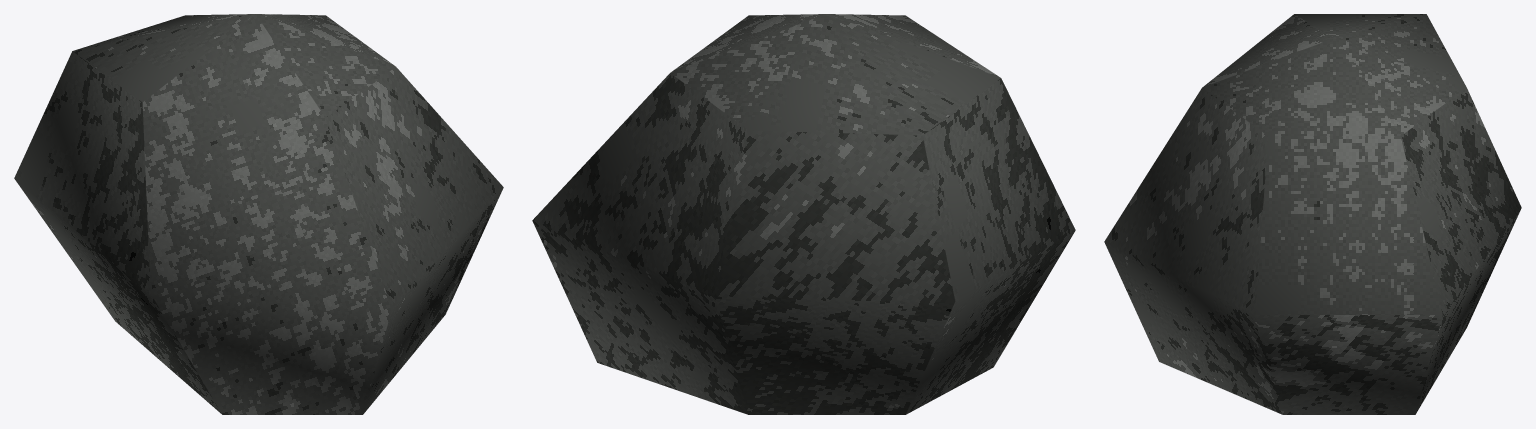
The model's file is rock1.glb.
The picture shows the model from 3 angles, left to right: view 1: azimuth 30°, elevation 25°; view 2: azimuth 150°, elevation 25°; view 3: azimuth 270°, elevation 25°; orthographic projection. The views are drawn at different scales.
Visible parts, largest first — view 1: rock; view 2: rock; view 3: rock.
Boxes of the visible parts, box(x1,y1,x2,y2) form: rock: box(14, 14, 503, 414); rock: box(532, 14, 1075, 414); rock: box(1104, 14, 1521, 414).
Size of the model in its own units: 2.23 by 1.99 by 2.23.
1 material, 1 textured.
